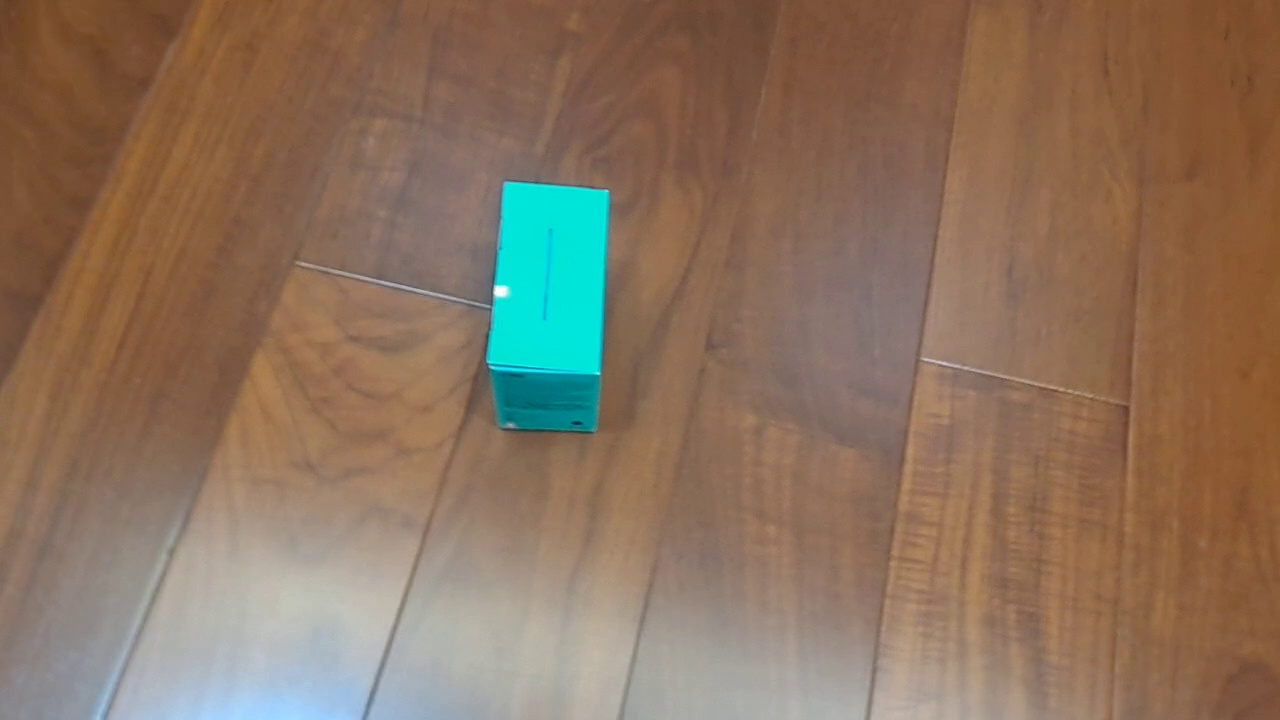webcam: (485, 180, 611, 434)
